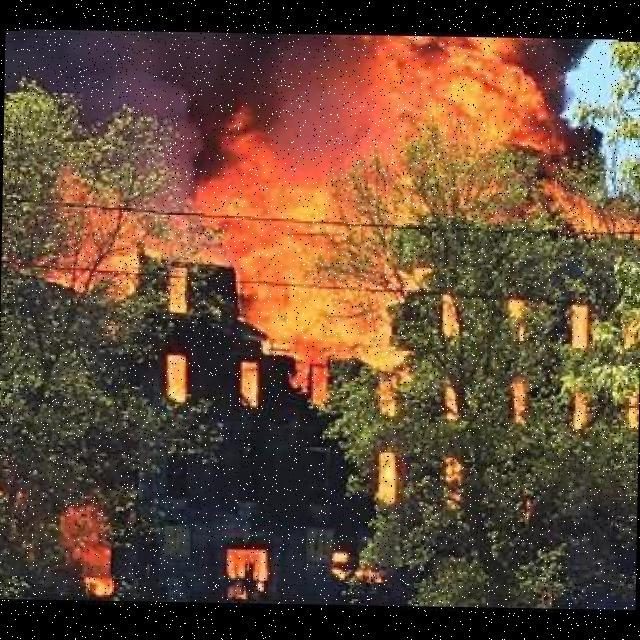fire: (9, 25, 618, 586)
